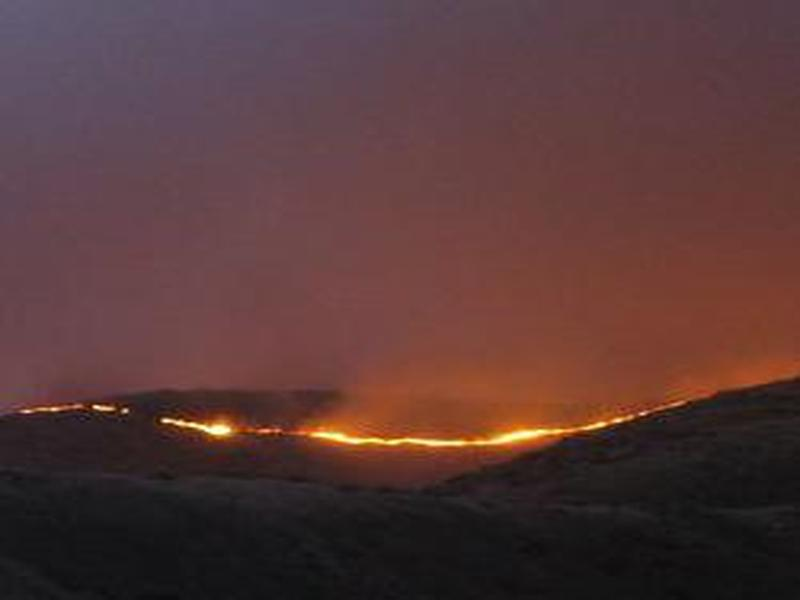FIRE: (27, 360, 746, 486)
